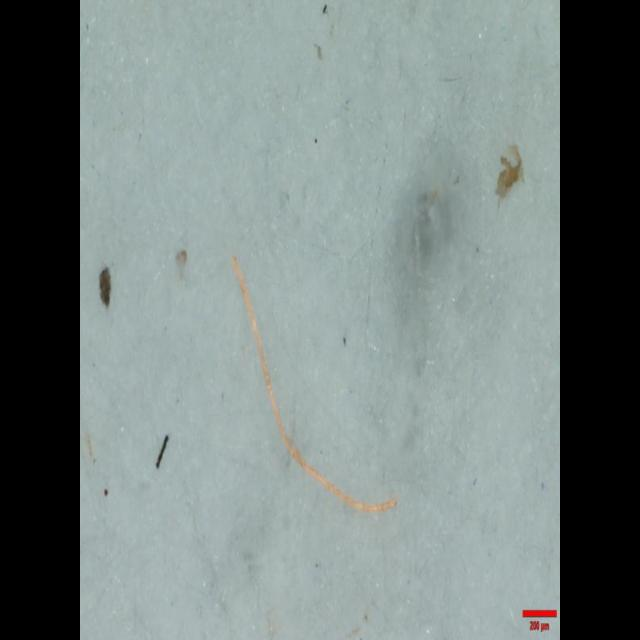Fibre: (230, 244, 402, 526)
